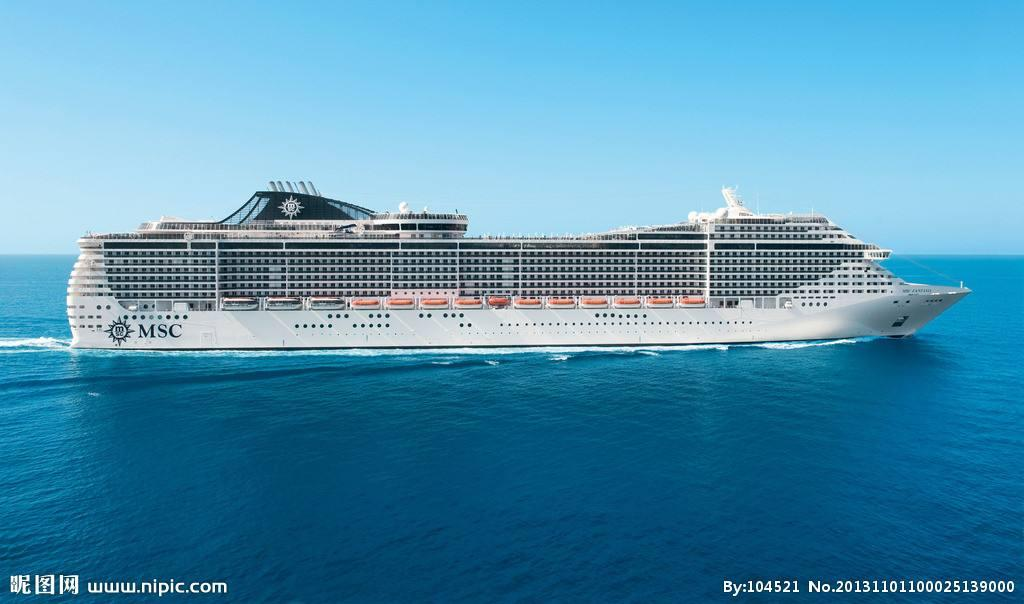youlun: (53, 172, 982, 356)
